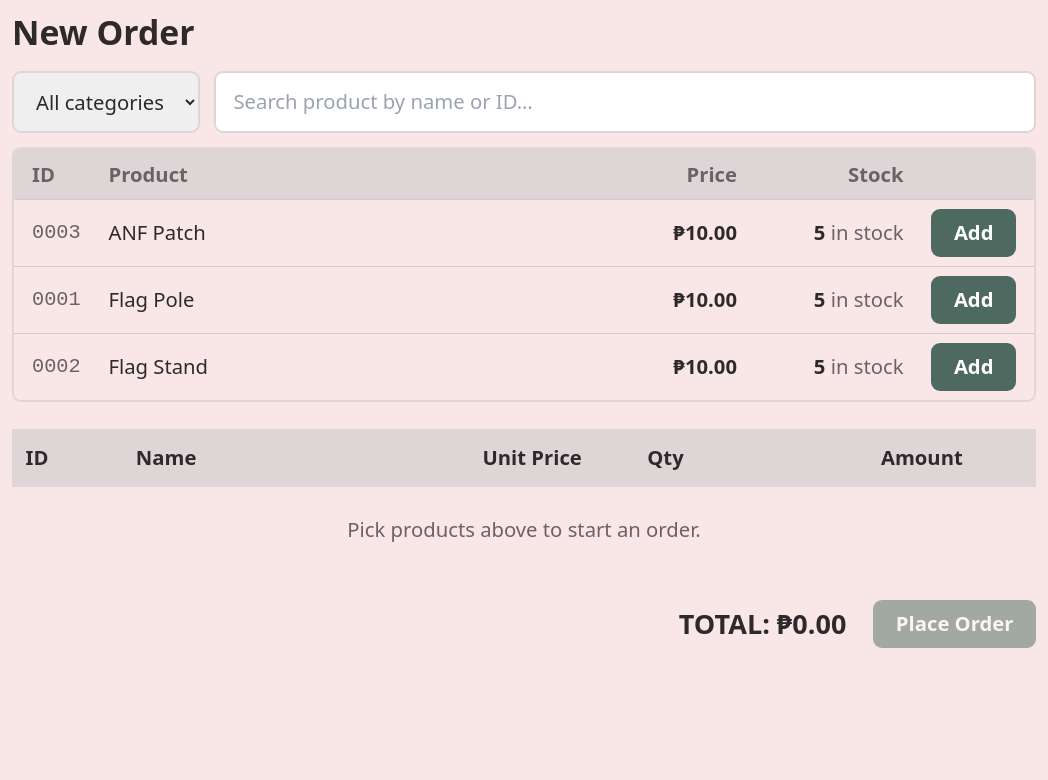
it: OrderPage product browsing › filters the picker by the category dropdown and ANDs with search
This screenshot has width=1048, height=780.
Expected: the list named "Products" shows "ANF Patch", x1=108 y1=218 x2=206 y2=246
Select "Flags" in the dropdown named "Filter by category": (106, 102) x1=12 y1=70 x2=200 y2=133
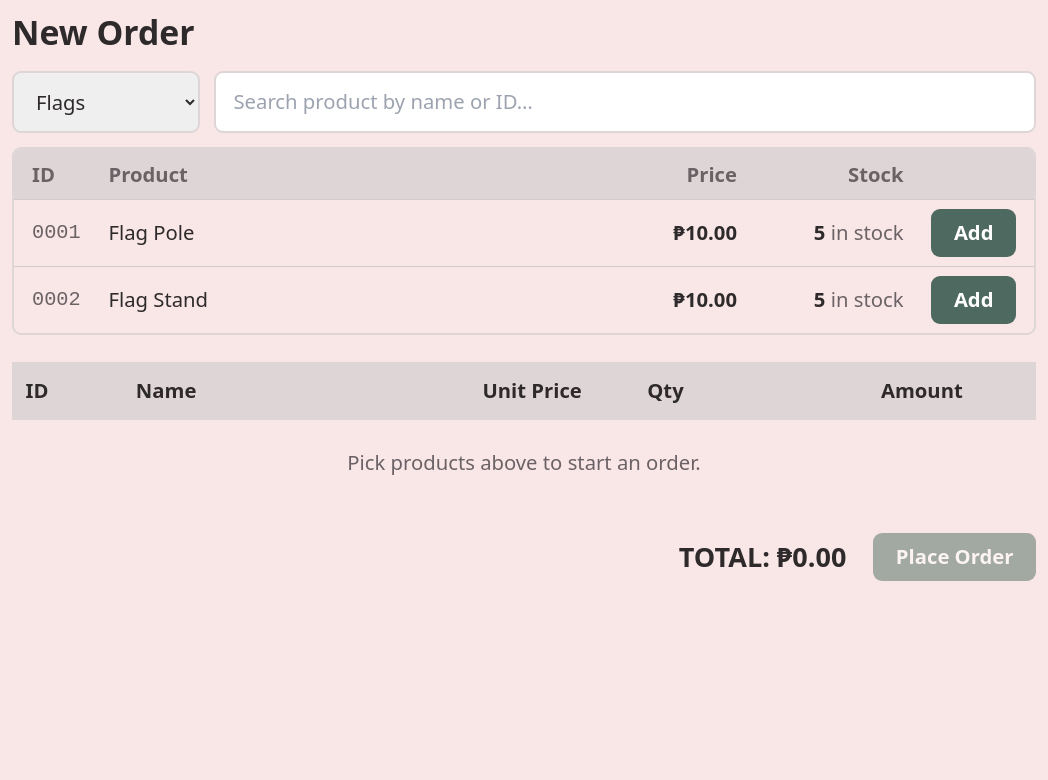
Expected: the list named "Products" shows "Flag Pole", x1=108 y1=218 x2=194 y2=246
Result: the text "Products" no longer shows "ANF Patch"
In the field labelled "Search product by name or ID": (625, 102) x1=214 y1=70 x2=1036 y2=133, type "Stand"
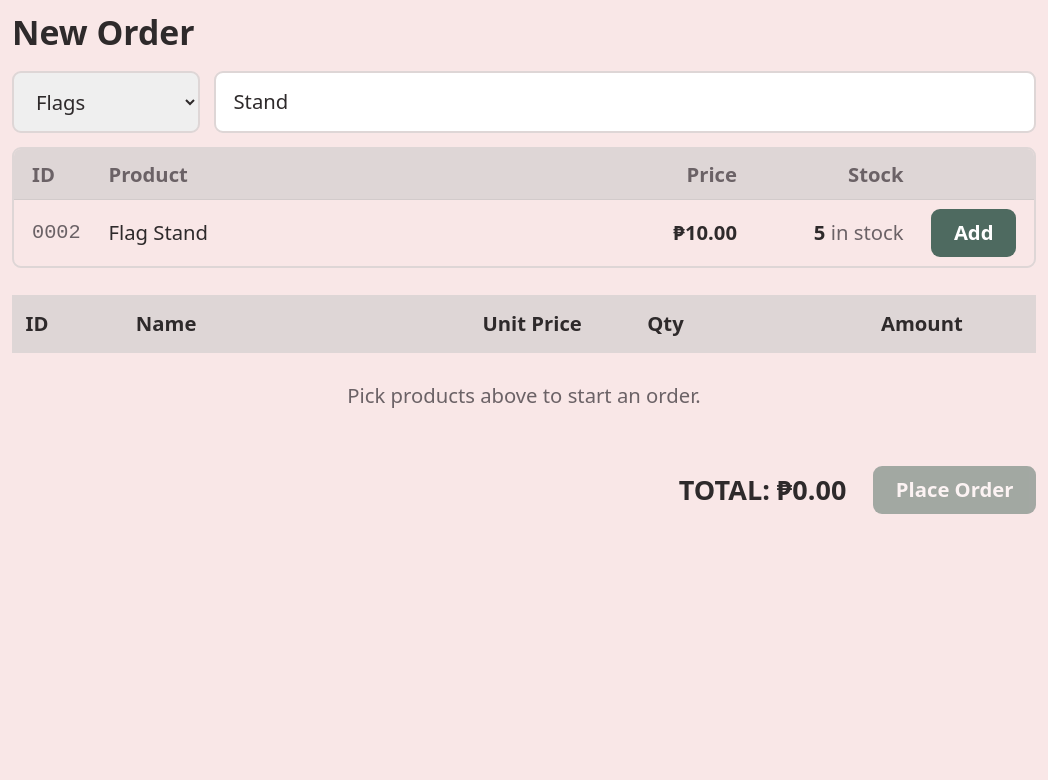
Expected: the list named "Products" shows "Flag Stand", x1=108 y1=218 x2=208 y2=246
Result: the text "Products" no longer shows "Flag Pole"
